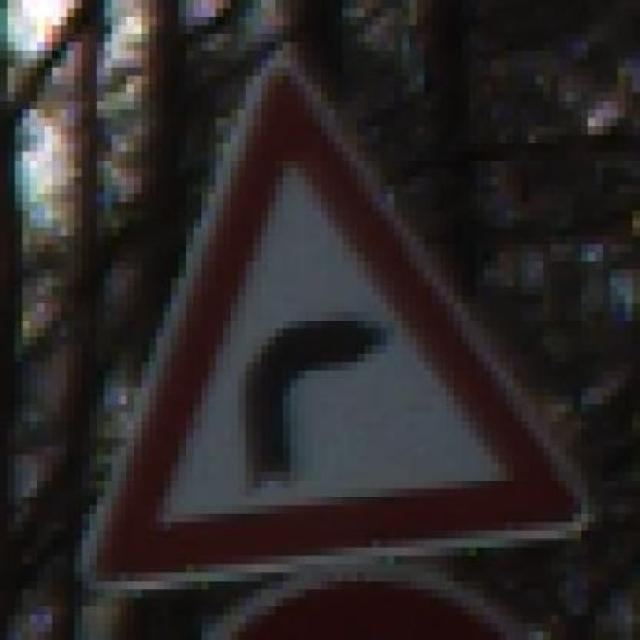Dangerous Rright Curve Ahead: (44, 42, 596, 573)
